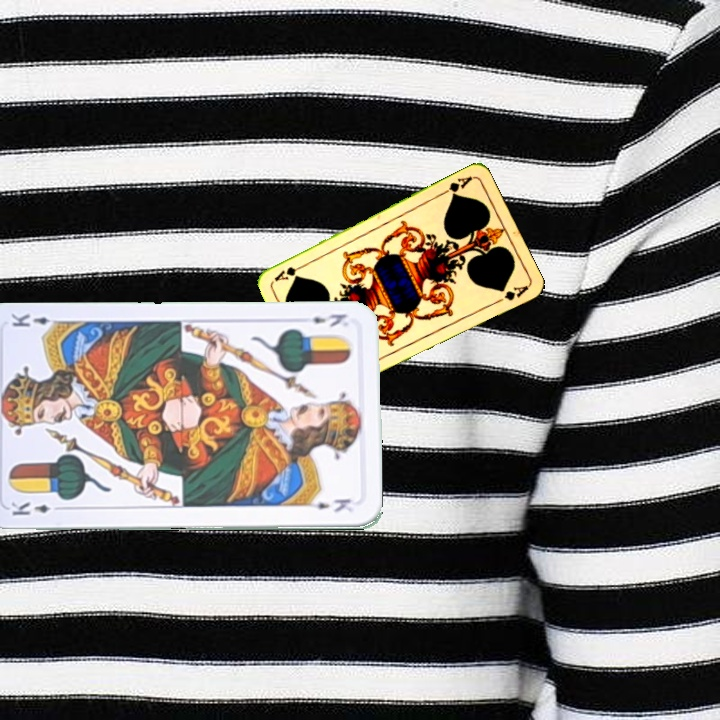EK: (7, 498, 66, 518), (296, 310, 349, 330)
GA: (437, 171, 475, 199)
